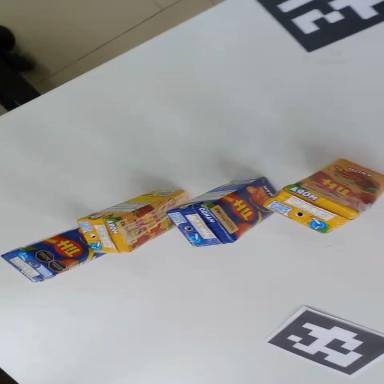HIT-MANGO: (165, 175, 281, 251), (1, 217, 105, 293)
HIT-MORA: (261, 144, 384, 253), (75, 165, 198, 268)
cara_F: (294, 146, 384, 220), (206, 168, 286, 243), (113, 184, 197, 252), (23, 220, 108, 282)
